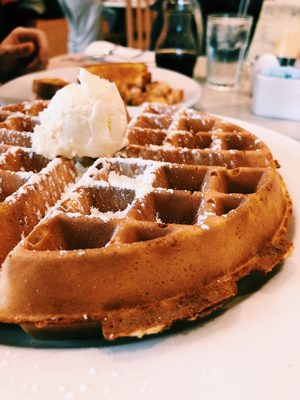pizza: (205, 12, 253, 92)
soup: (1, 104, 295, 343), (32, 73, 130, 161)
